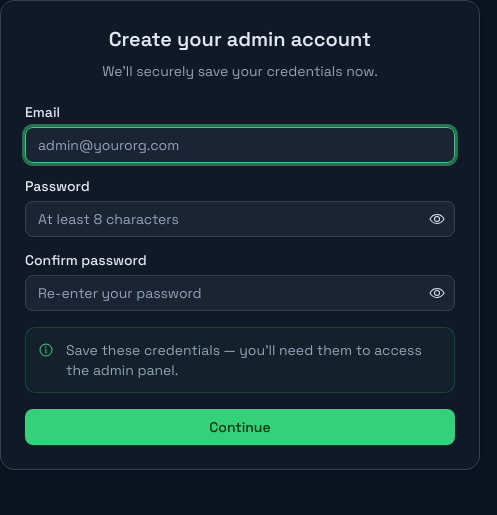
Test case: CreateAccountStep › shows validation error for invalid email format
In the field labelled "Email": (240, 145) [25,127,455,163], type "user@domain"
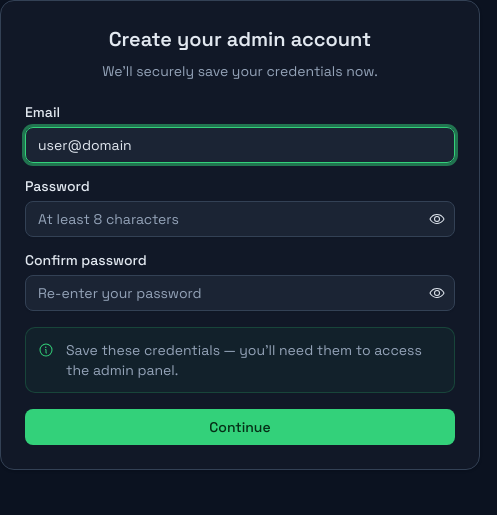
In the password field labelled "Password": (240, 219) [25,201,455,237], type "password123"
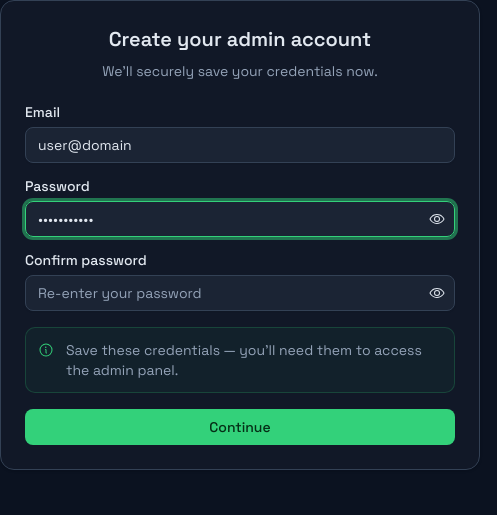
In the password field labelled "Confirm password": (240, 293) [25,275,455,311], type "password123"
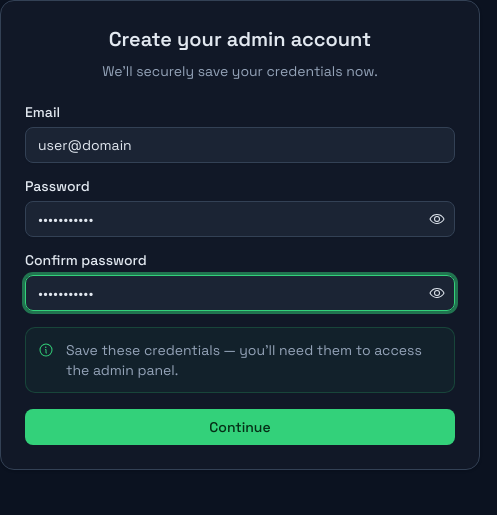
Click the button "Continue": (240, 427) [25,409,455,445]
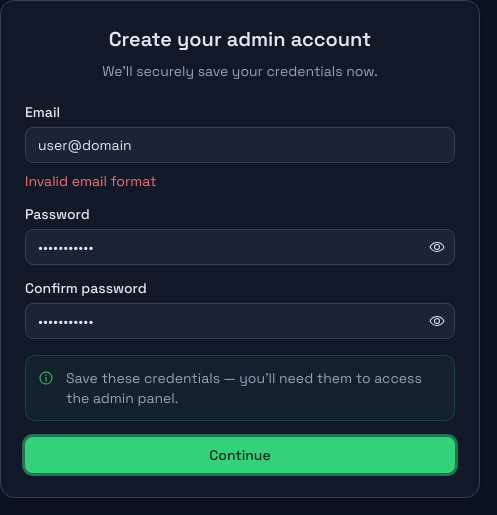
Expected: the text "Invalid email format" is shown, [25,172,156,190]
